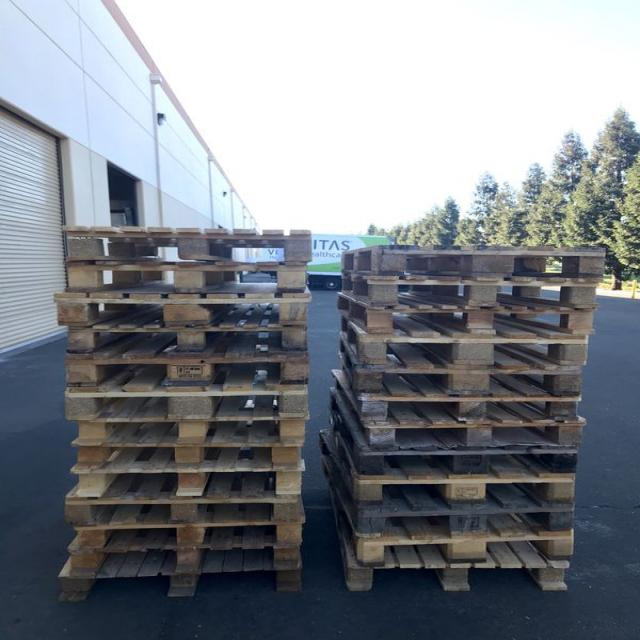block: (162, 304, 212, 328), (446, 480, 489, 506), (54, 299, 92, 328), (448, 537, 492, 562), (449, 368, 491, 394), (168, 397, 213, 420), (470, 253, 515, 275), (541, 508, 578, 534), (167, 365, 212, 386), (558, 340, 594, 366), (66, 235, 103, 260), (539, 565, 576, 590), (65, 364, 101, 389), (353, 508, 385, 536), (65, 268, 102, 292), (451, 512, 489, 535), (271, 544, 304, 570), (355, 540, 388, 566), (62, 398, 99, 421), (171, 270, 208, 293), (464, 285, 501, 308), (460, 339, 494, 364), (68, 550, 100, 576), (366, 310, 398, 336), (75, 525, 108, 550), (377, 250, 408, 276), (441, 564, 472, 590), (274, 569, 306, 594), (279, 330, 313, 353), (364, 283, 398, 306), (547, 478, 579, 502), (279, 363, 312, 386), (175, 334, 208, 357), (65, 333, 98, 356), (177, 236, 210, 259), (452, 455, 488, 476), (172, 547, 202, 572), (356, 482, 386, 507), (279, 421, 310, 445), (58, 575, 90, 598), (568, 285, 600, 308), (274, 524, 307, 546), (62, 502, 95, 524), (275, 272, 308, 294), (280, 240, 314, 261), (462, 311, 496, 332), (169, 501, 200, 524), (360, 399, 392, 421), (348, 565, 376, 590), (547, 535, 576, 559), (169, 574, 202, 595), (173, 448, 206, 469), (74, 448, 107, 469), (176, 524, 206, 547), (280, 301, 310, 324), (358, 453, 388, 476), (274, 472, 305, 494), (77, 472, 104, 497), (548, 453, 580, 474), (357, 371, 386, 394), (75, 422, 108, 442), (555, 373, 582, 397), (576, 256, 608, 276), (456, 401, 488, 421), (273, 449, 302, 471), (368, 428, 397, 450), (178, 423, 208, 444), (549, 401, 582, 420), (281, 394, 308, 417), (463, 428, 494, 448), (178, 472, 204, 495), (560, 423, 586, 446), (569, 313, 596, 334), (273, 502, 302, 521), (359, 338, 386, 358)
front: (58, 225, 316, 260), (52, 293, 316, 327), (64, 386, 310, 420), (64, 324, 319, 356), (367, 275, 604, 309), (62, 356, 316, 387), (360, 334, 590, 368), (57, 263, 318, 292), (358, 533, 580, 567), (70, 467, 307, 498), (365, 307, 604, 336), (358, 476, 579, 506), (346, 565, 574, 594), (70, 441, 302, 469), (377, 244, 606, 272), (69, 499, 305, 526), (73, 417, 308, 444), (357, 506, 578, 534), (366, 420, 584, 448), (364, 449, 582, 476), (360, 370, 585, 396), (72, 523, 302, 548), (69, 549, 307, 573), (360, 395, 583, 420), (58, 576, 307, 596)
